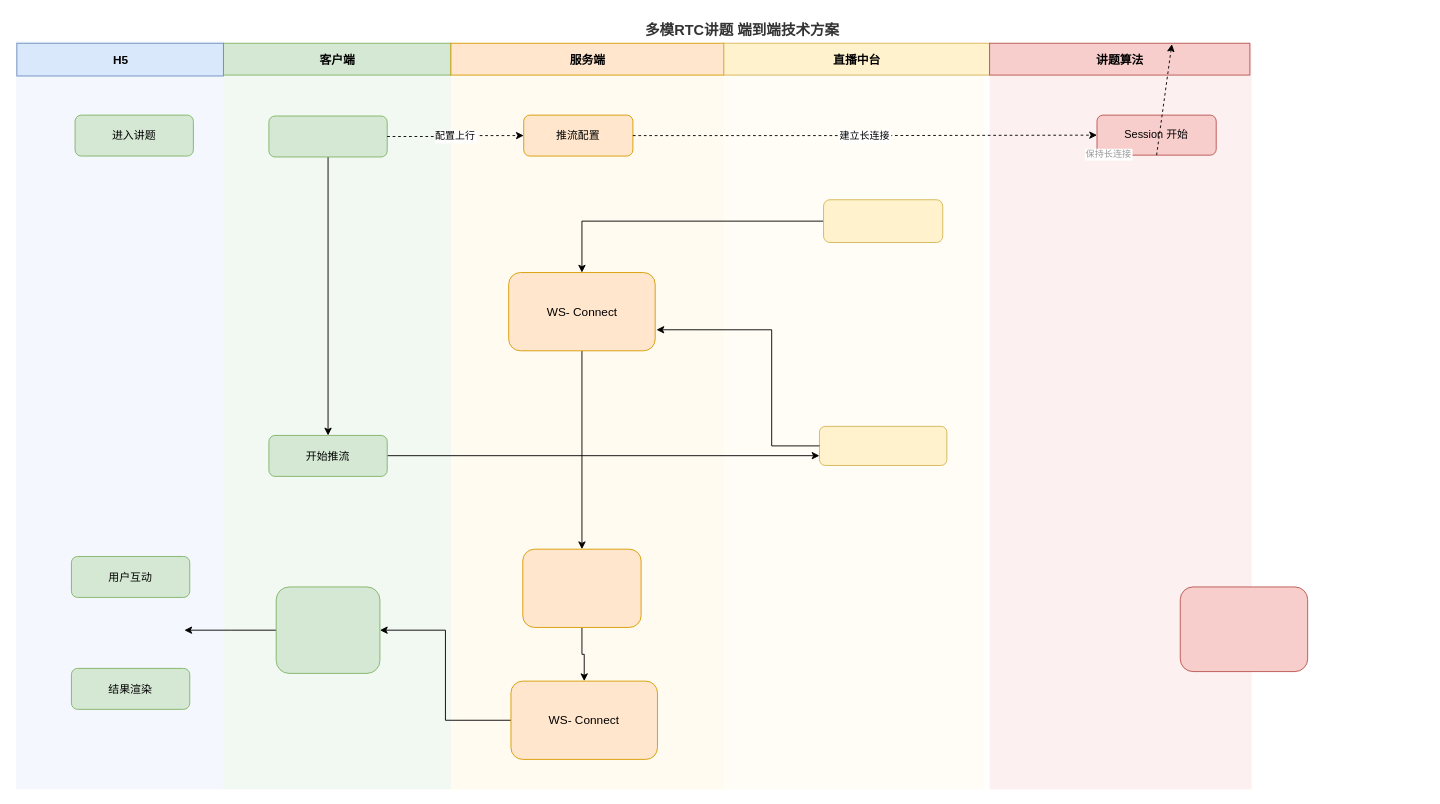
Some shapes in this 1440 by 804 pixel diagram are drawn without their labels. The shapes that lost their labels are listed below. From the top down, each one's centre as x and y in pixels, then its label:
At pixel 327 136: "讲题推流配置".
At pixel 883 221: "流截取配置".
At pixel 883 445: "流媒体服务".
At pixel 581 587: "Event处理".
At pixel 327 629: "WS事件转发".
At pixel 1243 629: "音视频处理 事件处理".
